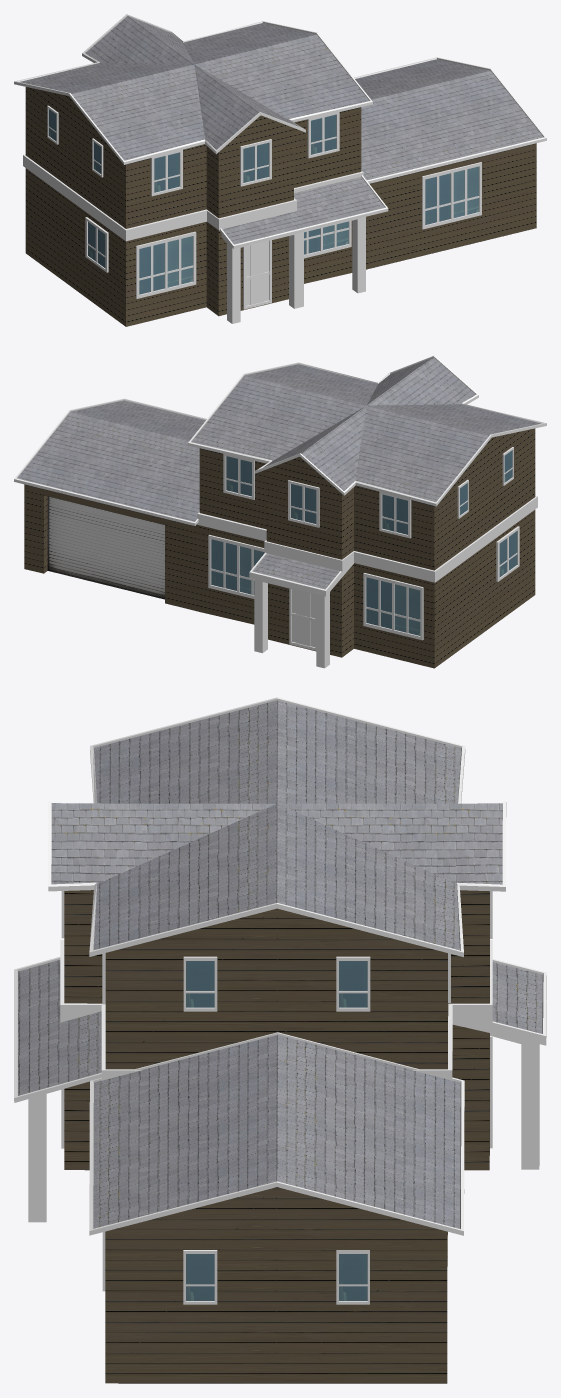
Rendered from house10a.fbx.
3 views of the same model, one above another, from view 1: azimuth 30°, elevation 25°; view 2: azimuth 150°, elevation 25°; view 3: azimuth 270°, elevation 25° (orthographic). The views are drawn at different scales.
Parts seen in each view (by area): view 1: RES_H10a_2437.Shape; view 2: RES_H10a_2437.Shape; view 3: RES_H10a_2437.Shape.
Part boxes in pixels (x1,y1,x2,y2): RES_H10a_2437.Shape: (14, 14, 546, 326); RES_H10a_2437.Shape: (14, 355, 546, 668); RES_H10a_2437.Shape: (14, 697, 546, 1383).
Size of the model in its own units: 1367 by 616 by 876.
Materials: 5 (4 with a texture image).
